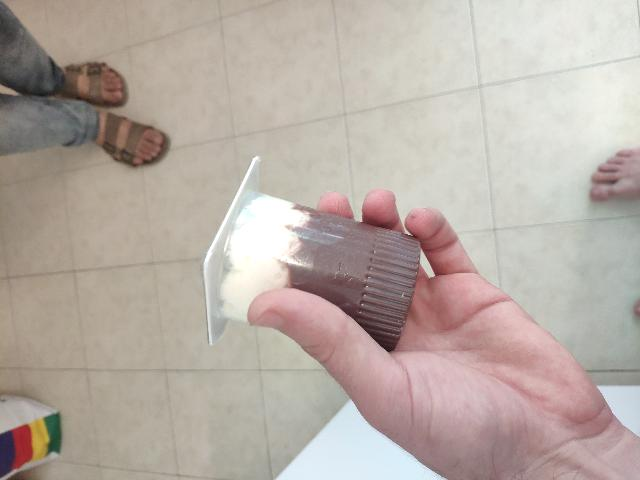milky: (199, 181, 445, 355)
